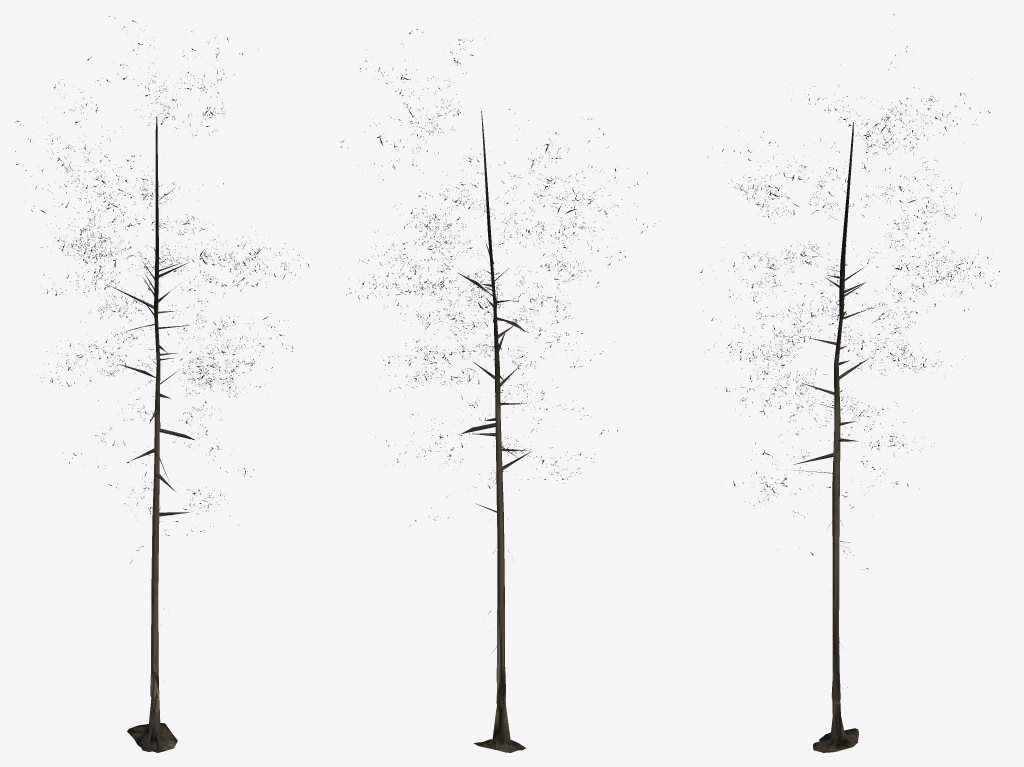
Rendered from pine_tree_01.glb.
The picture shows the model from 3 angles, left to right: view 1: azimuth 30°, elevation 25°; view 2: azimuth 150°, elevation 25°; view 3: azimuth 270°, elevation 25°; orthographic projection. The views are drawn at different scales.
Visible parts, largest first — view 1: pine_tree_01_a_LOD0; view 2: pine_tree_01_a_LOD0; view 3: pine_tree_01_a_LOD0.
Part boxes in pixels (box(x1,y1,x2,y2)): pine_tree_01_a_LOD0: box(14, 16, 309, 752); pine_tree_01_a_LOD0: box(339, 29, 660, 752); pine_tree_01_a_LOD0: box(700, 14, 999, 752).
Bounding box in the file's own units: 7.4 × 20.16 × 8.08.
Materials: 4 (4 with a texture image).
